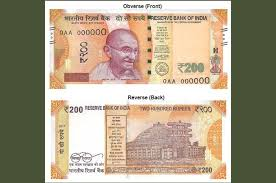twoHundred: (58, 21, 215, 80)
